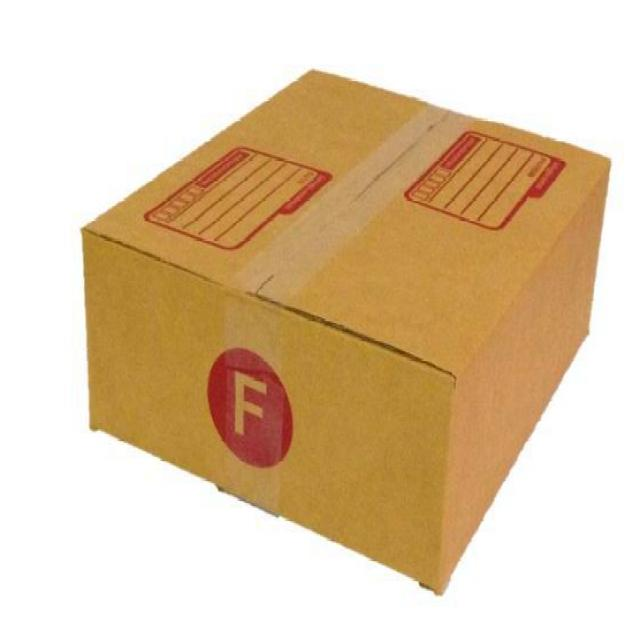box: (72, 41, 627, 602)
